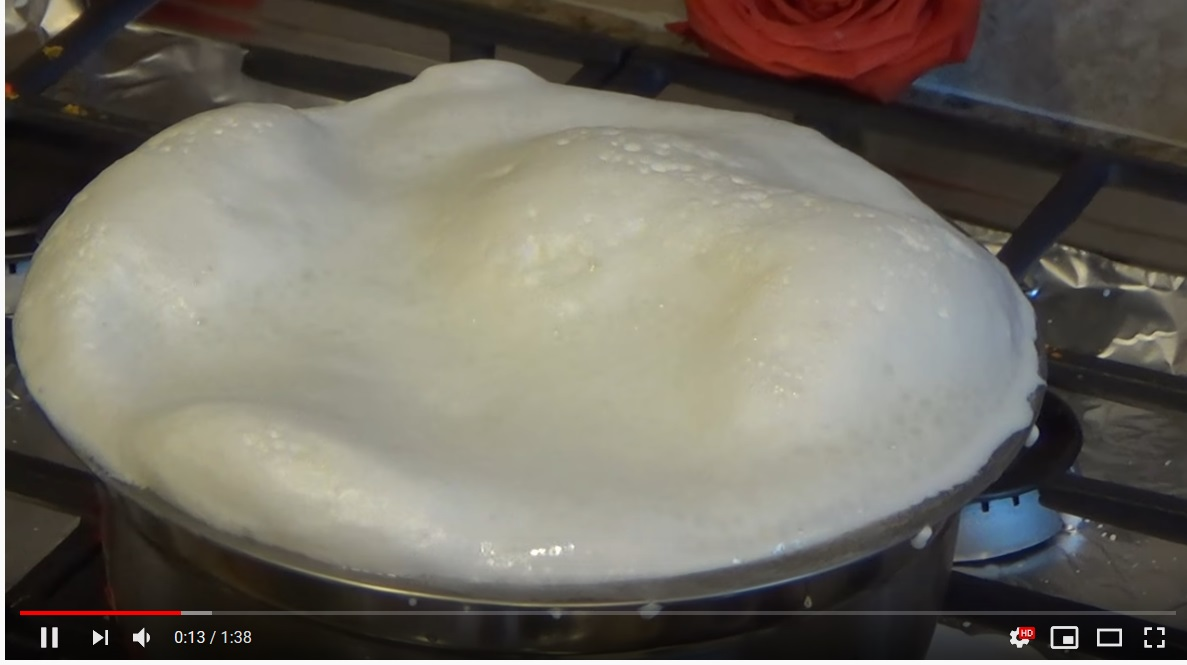Boiled: (36, 60, 1056, 585)
